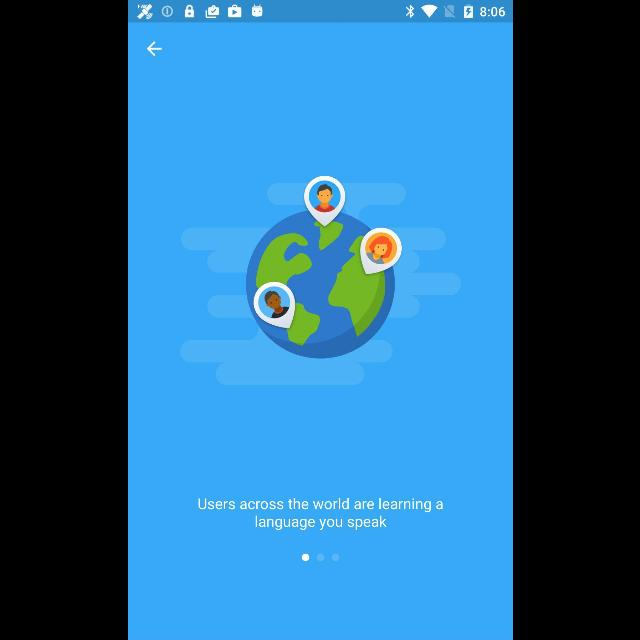icon: (146, 42, 162, 56)
image: (180, 177, 460, 386)
pageindicator: (301, 554, 339, 562)
text: (198, 497, 442, 531)
uppertaskbar: (128, 1, 512, 23)
